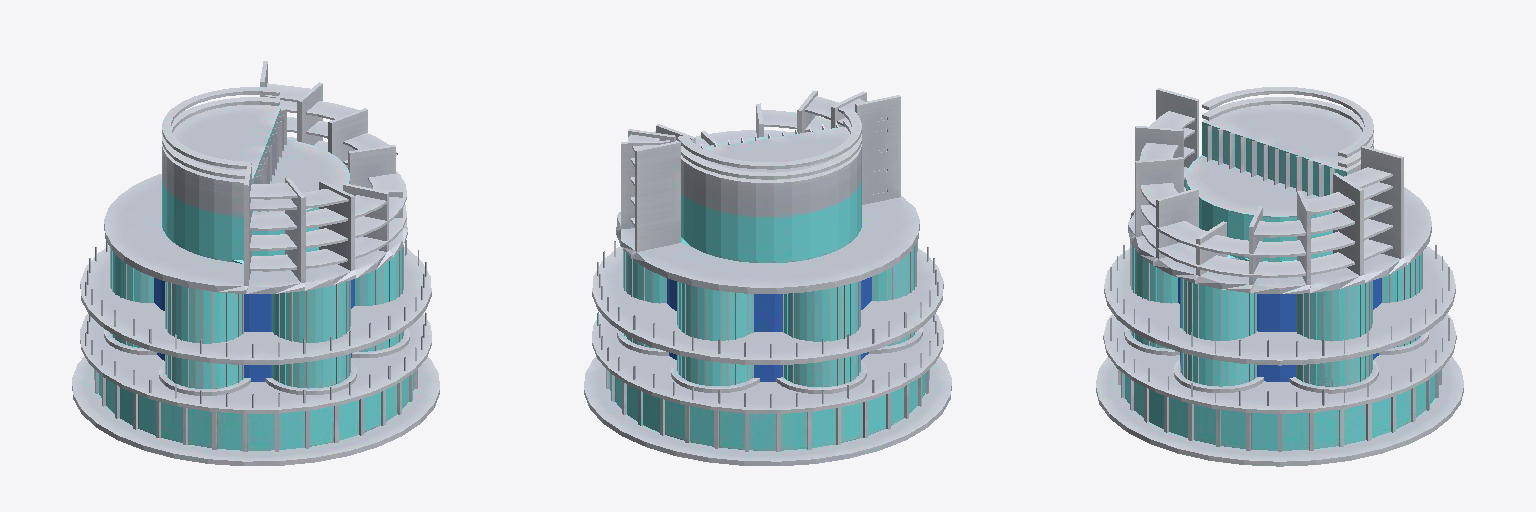
3 views of the same model, side by side, from view 1: azimuth 30°, elevation 25°; view 2: azimuth 150°, elevation 25°; view 3: azimuth 270°, elevation 25° (orthographic).
Visible parts, largest first — view 1: Cylinder.002, Cylinder.009, Cylinder.010, Cylinder.005, Cylinder.004, Cylinder.003, Cylinder.008, Cube.002, Cube.001; view 2: Cylinder.009, Cylinder.002, Cylinder.008, Cylinder.007, Cylinder.010, Cylinder.005, Cylinder.006, Cube.002, Cube.001; view 3: Cylinder.002, Cylinder.009, Cylinder.010, Cylinder.003, Cylinder.006, Cylinder.004, Cylinder.007, Cube.002.
Part boxes in pixels (left/top/right/bottom): Cylinder.002: left=72, top=246, right=439, bottom=465; Cylinder.009: left=104, top=61, right=407, bottom=381; Cylinder.010: left=162, top=83, right=406, bottom=271; Cylinder.005: left=159, top=282, right=250, bottom=395; Cylinder.004: left=265, top=280, right=356, bottom=394; Cylinder.003: left=352, top=246, right=409, bottom=357; Cylinder.008: left=104, top=248, right=156, bottom=354; Cube.002: left=85, top=240, right=426, bottom=357; Cube.001: left=85, top=312, right=426, bottom=407; Cylinder.009: left=616, top=91, right=919, bottom=381; Cylinder.002: left=584, top=246, right=951, bottom=465; Cylinder.008: left=776, top=281, right=866, bottom=393; Cylinder.007: left=671, top=281, right=759, bottom=392; Cylinder.010: left=628, top=96, right=887, bottom=226; Cylinder.005: left=869, top=243, right=922, bottom=353; Cylinder.006: left=617, top=250, right=668, bottom=355; Cube.002: left=597, top=241, right=938, bottom=357; Cube.001: left=597, top=312, right=938, bottom=407; Cylinder.002: left=1096, top=246, right=1463, bottom=466; Cylinder.009: left=1128, top=88, right=1431, bottom=381; Cylinder.010: left=1139, top=87, right=1392, bottom=277; Cylinder.003: left=1174, top=278, right=1263, bottom=392; Cylinder.006: left=1289, top=281, right=1378, bottom=393; Cylinder.004: left=1124, top=242, right=1179, bottom=355; Cylinder.007: left=1379, top=252, right=1428, bottom=354; Cube.002: left=1110, top=245, right=1449, bottom=356.
Bounding box in the file's own units: 2225 × 1766 × 2225.
3 materials, 1 textured.